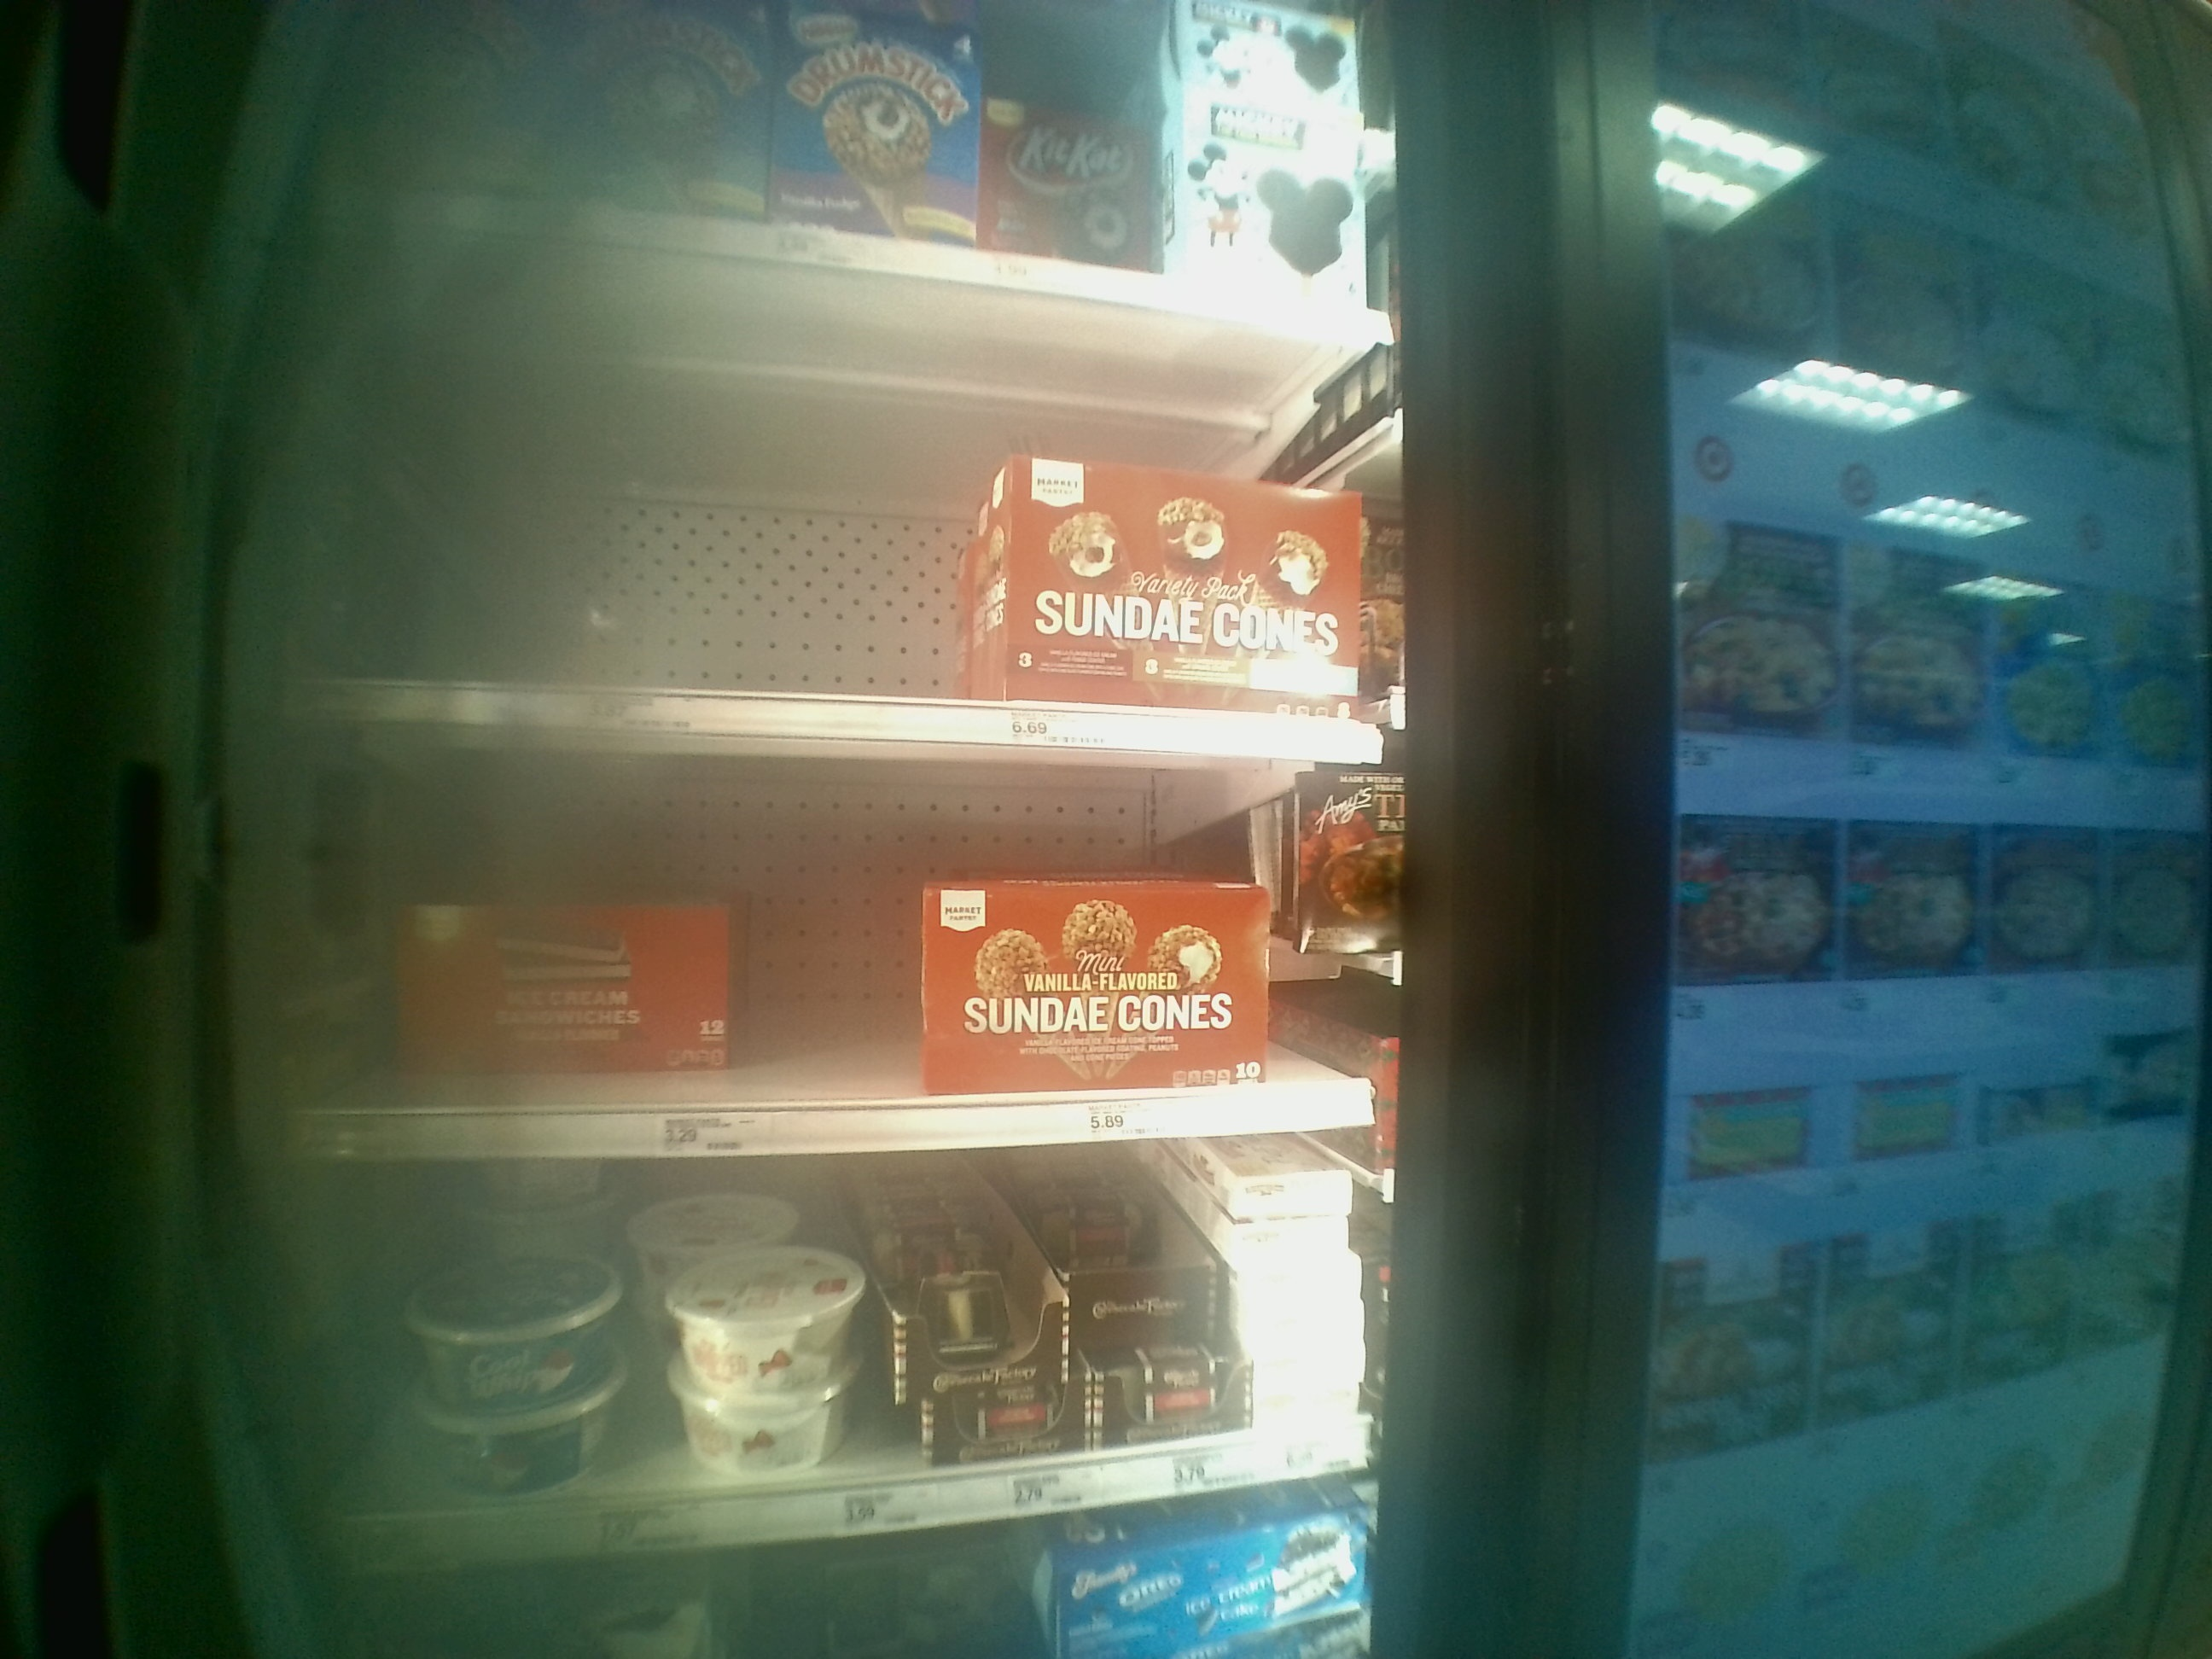frozen-food-shelf: (258, 347, 1411, 763), (256, 762, 1411, 1161)
